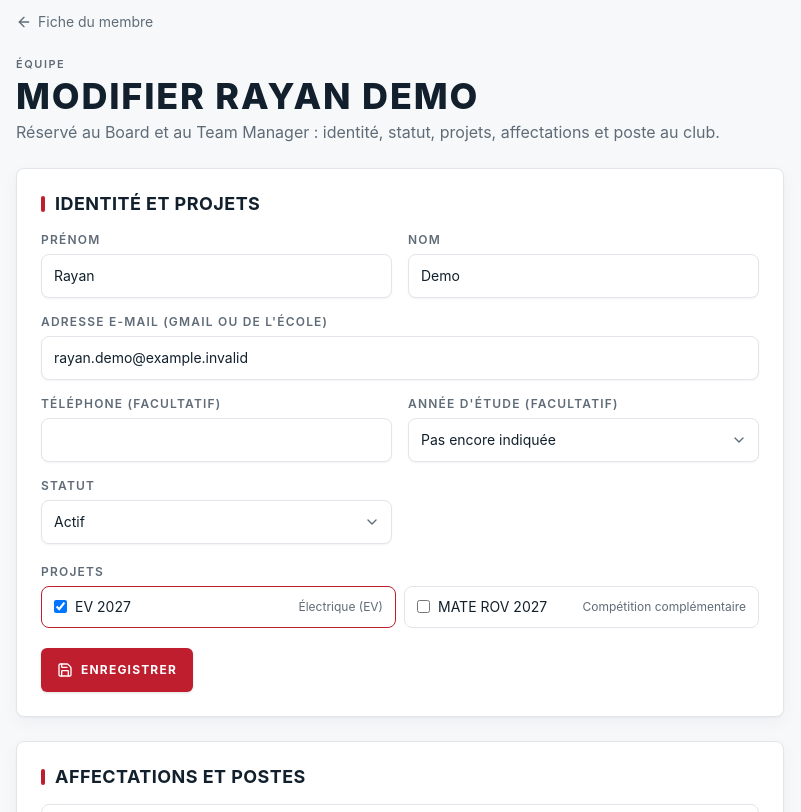
Test case: EditMember › changes who the member is, their status and their projects
Expected: the heading "Modifier Rayan Demo" is shown, [16,74,479,118]
Expected: the checkbox labelled "EV 2027 Électrique (EV)" is checked, [54,600,67,613]
Replace the text in the field labelled "Prénom" with "Rayane": [216, 276] box [41,254,392,298]
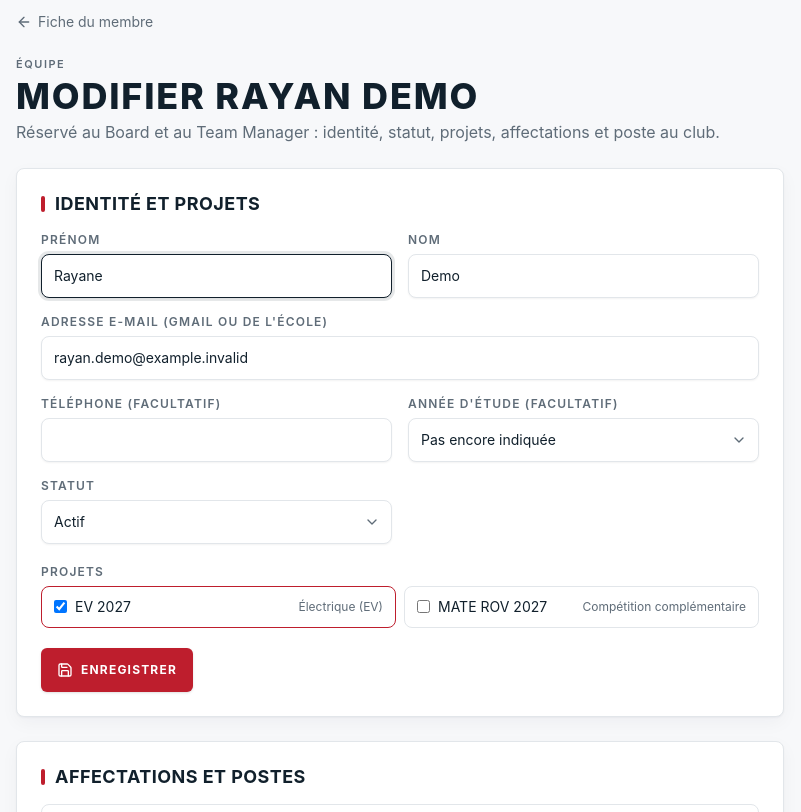
Select "En congé" in the dropdown labelled "Statut": [216, 522] box [41,500,392,544]
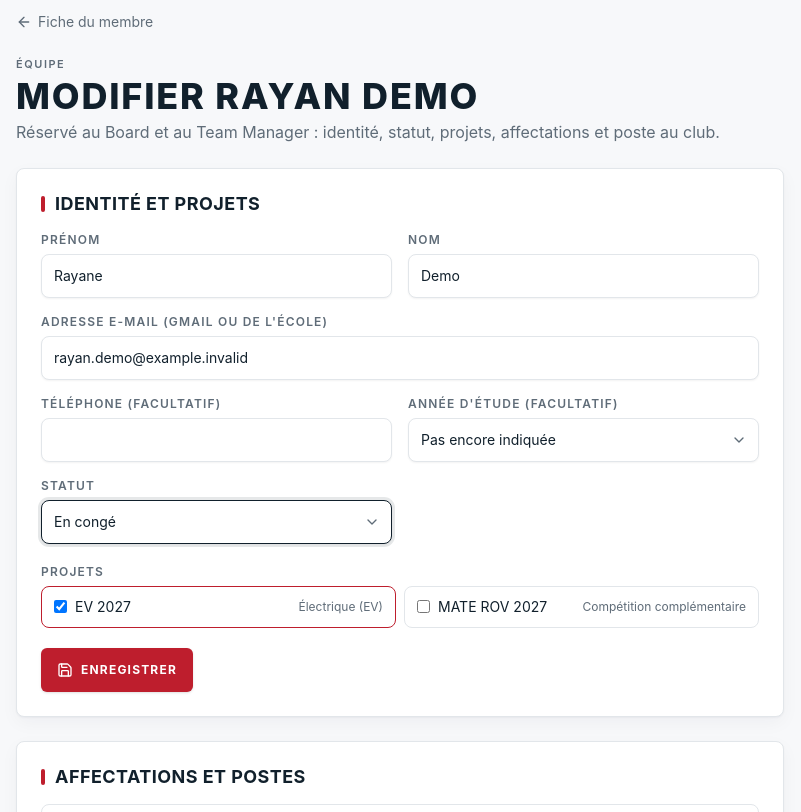
Click the checkbox labelled "MATE ROV 2027 Compétition complémentaire": [424, 606] box [417,600,430,613]
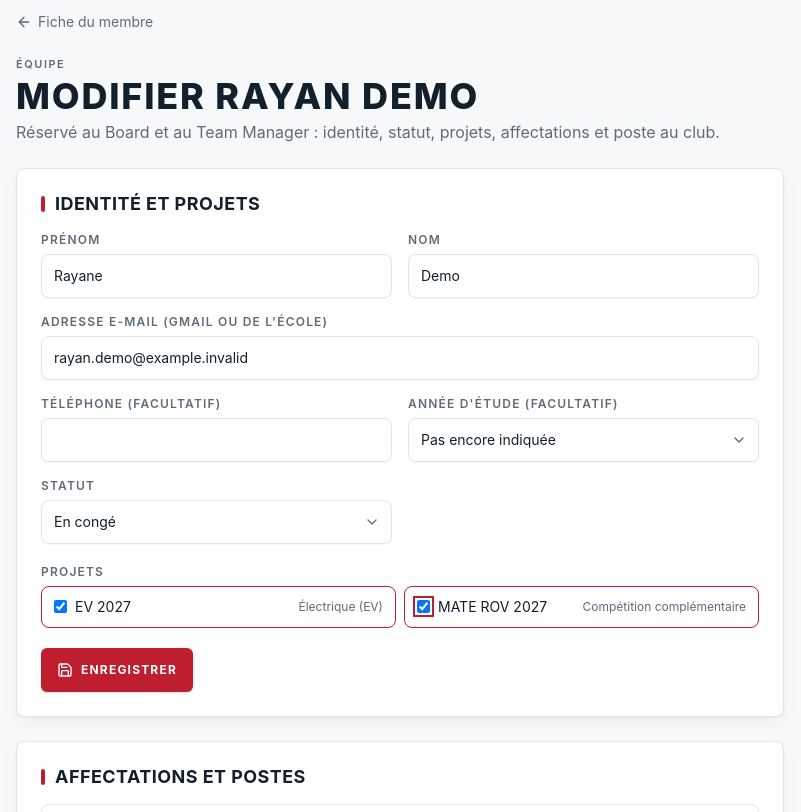
Click the button "Enregistrer": [117, 670] box [41,648,193,692]
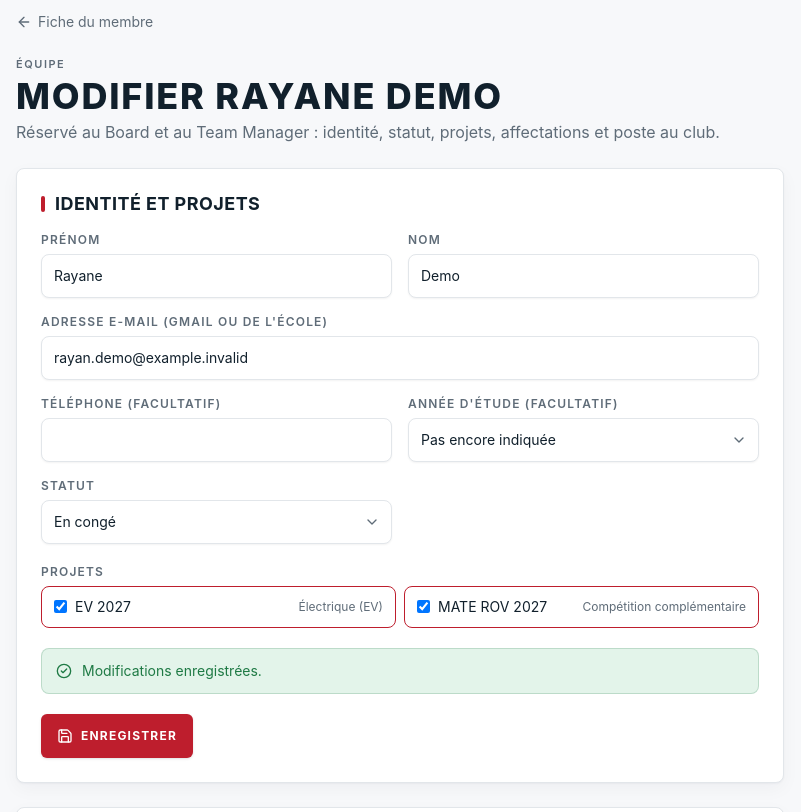
Expected: the text "Modifications enregistrées." is shown, [82,660,262,680]
